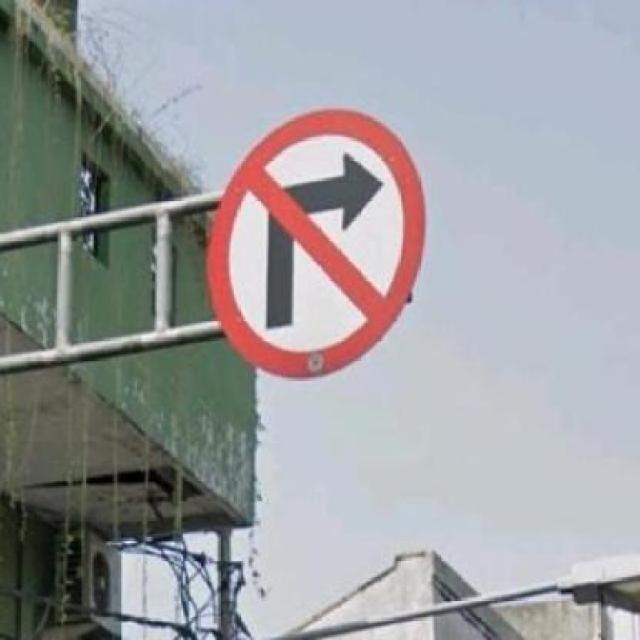right turn prohibited: (205, 105, 424, 378)
